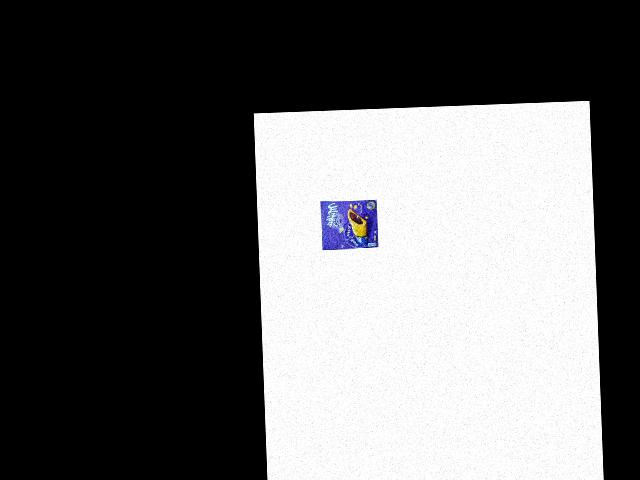chocolate: (316, 196, 382, 252)
